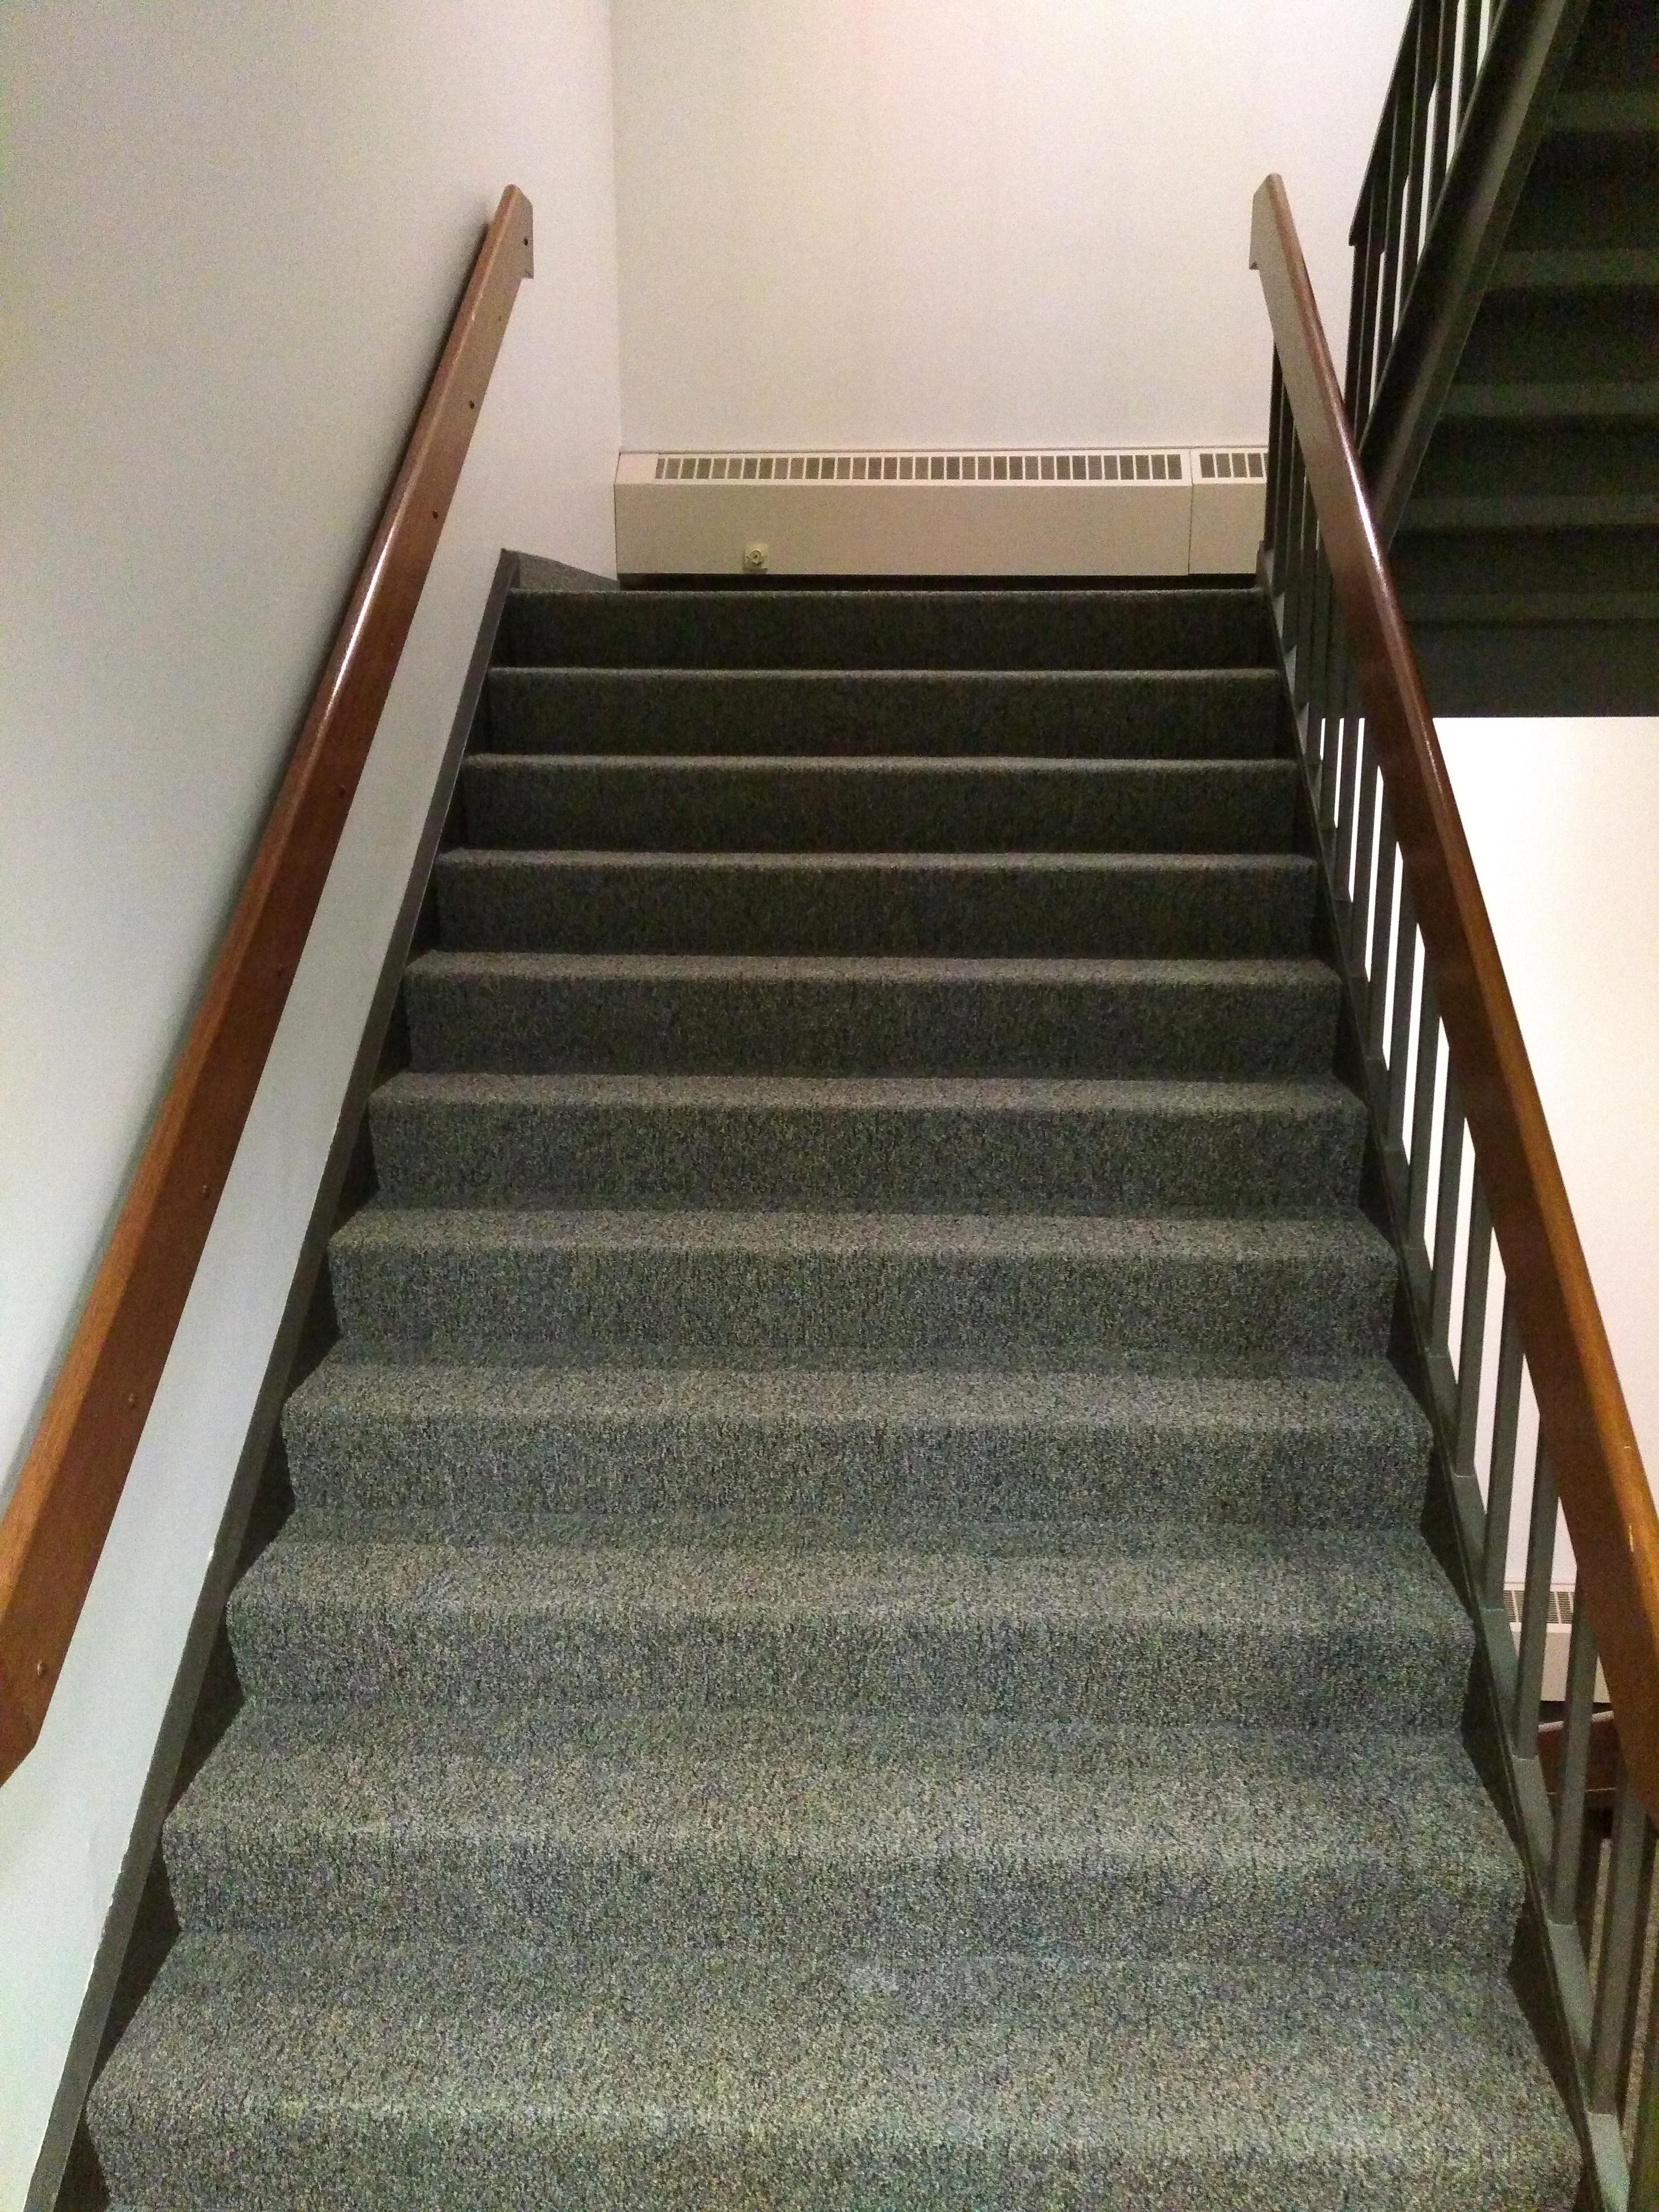stairs_up: (63, 590, 1612, 2181)
